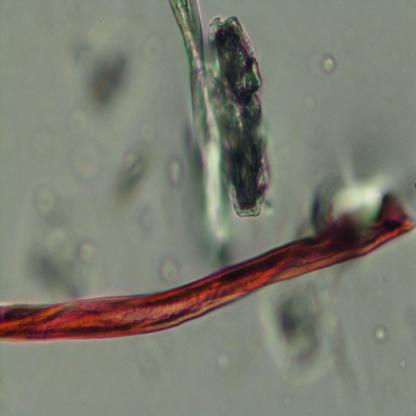Background material: (262, 280, 354, 390), (301, 158, 391, 235), (13, 226, 107, 298), (70, 27, 133, 119), (137, 334, 178, 384), (67, 134, 108, 183), (112, 149, 150, 197), (122, 208, 161, 253), (28, 183, 60, 217), (27, 124, 55, 161), (163, 154, 188, 191), (146, 28, 167, 65), (157, 258, 183, 287), (136, 121, 163, 147), (298, 85, 316, 110), (372, 325, 391, 348), (318, 57, 338, 74), (220, 354, 231, 372), (398, 354, 408, 372)
Cellulose filter fibre: (168, 1, 268, 251)
Cotton: (0, 187, 416, 344)
